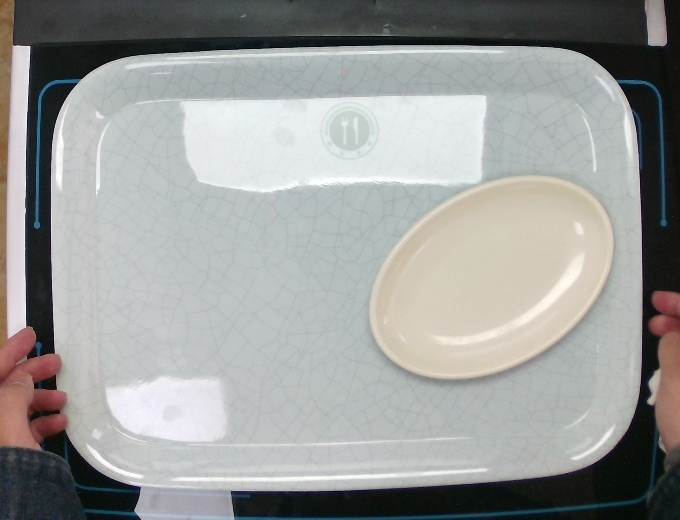JYsf-Tuo_Yuan_Wan: (361, 166, 619, 386)
